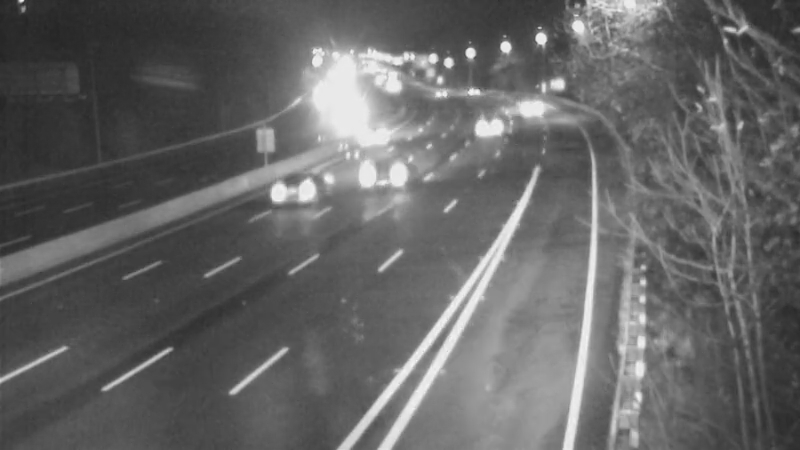vehicle: (351, 139, 431, 219), (241, 152, 321, 232), (447, 66, 497, 116), (408, 71, 458, 121), (504, 86, 554, 136), (456, 105, 506, 155), (344, 111, 394, 161), (317, 95, 367, 145)
